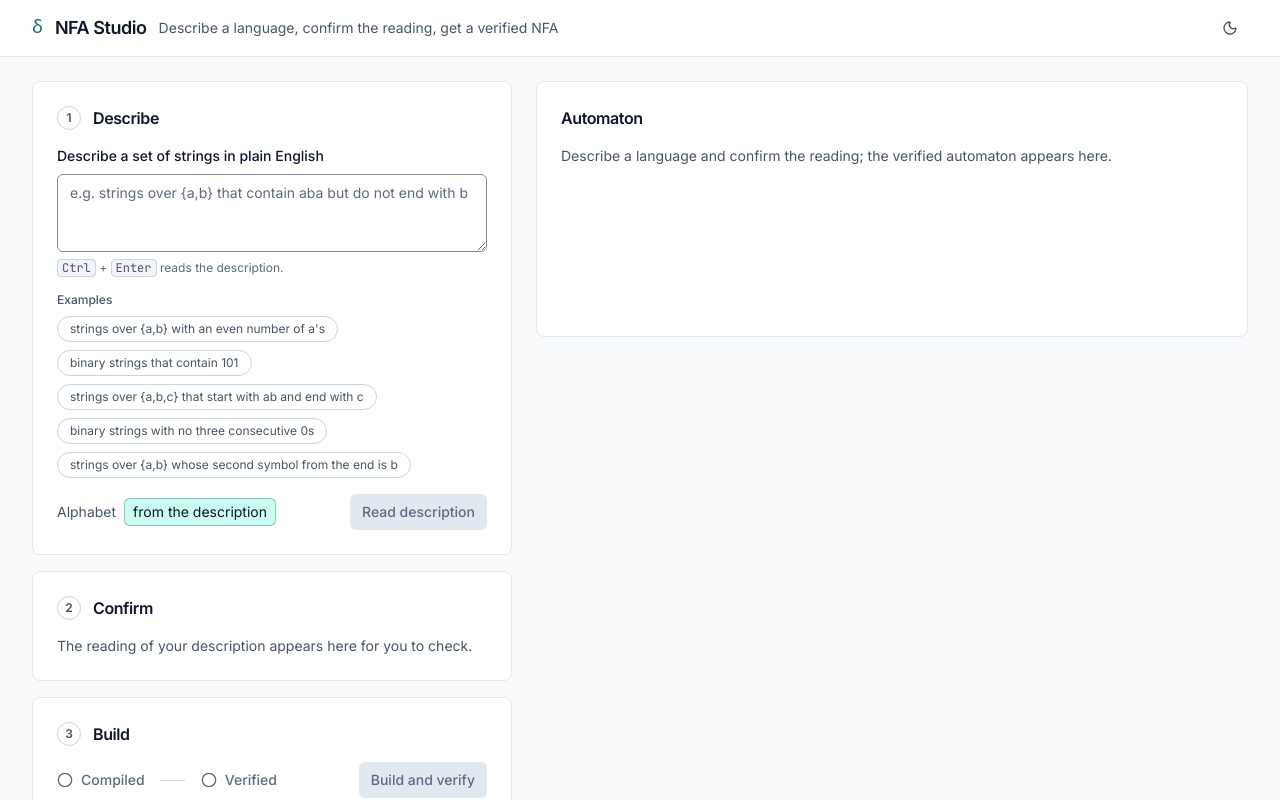
Test case: Studio › switches between light and dark themes
Click the button named "Switch to dark theme": point(1230, 28) [1212,10,1248,46]
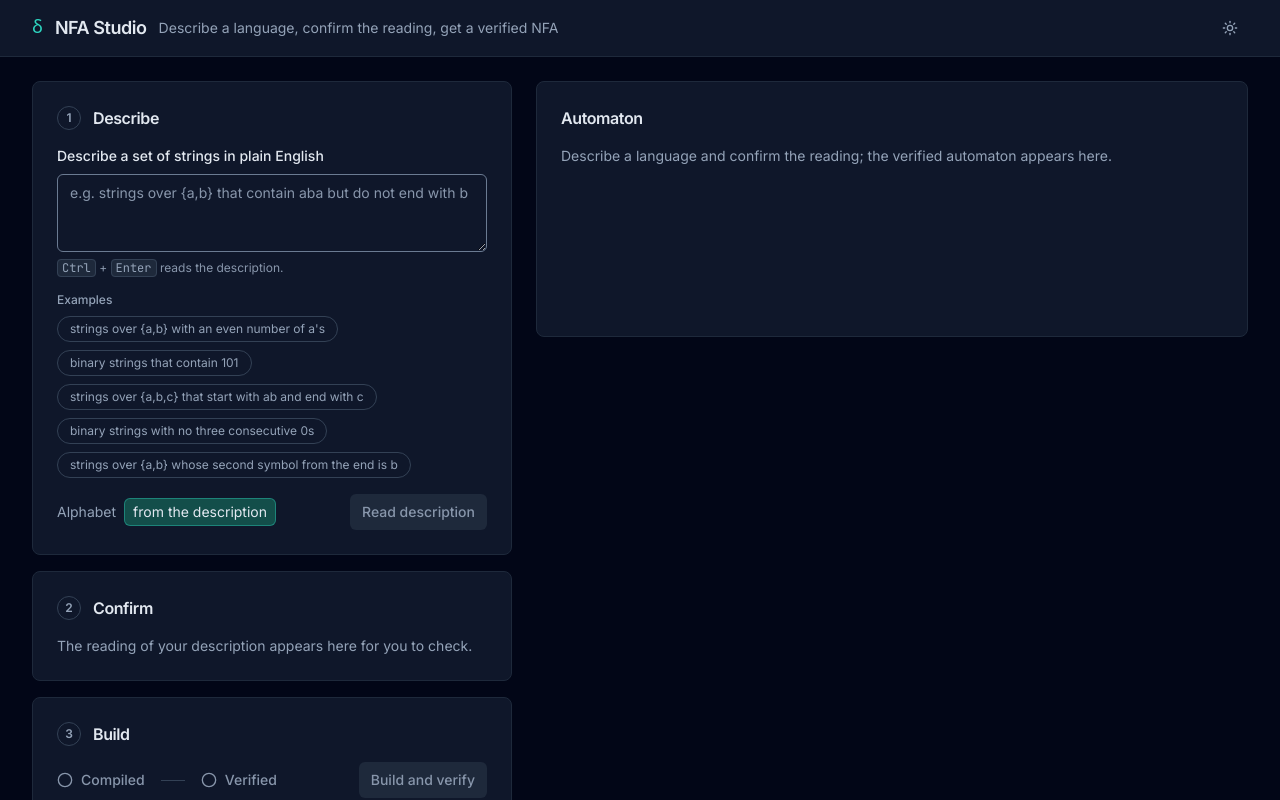
Check: the button named "Switch to light theme" is shown, box [1212,10,1248,46]
